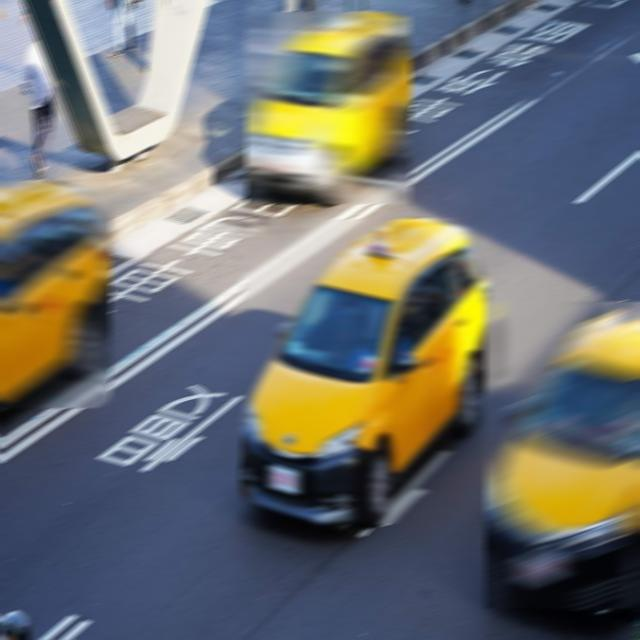Door: (240, 219, 492, 524), (484, 303, 640, 607), (0, 180, 112, 408)
Taxi: (244, 12, 412, 204)
